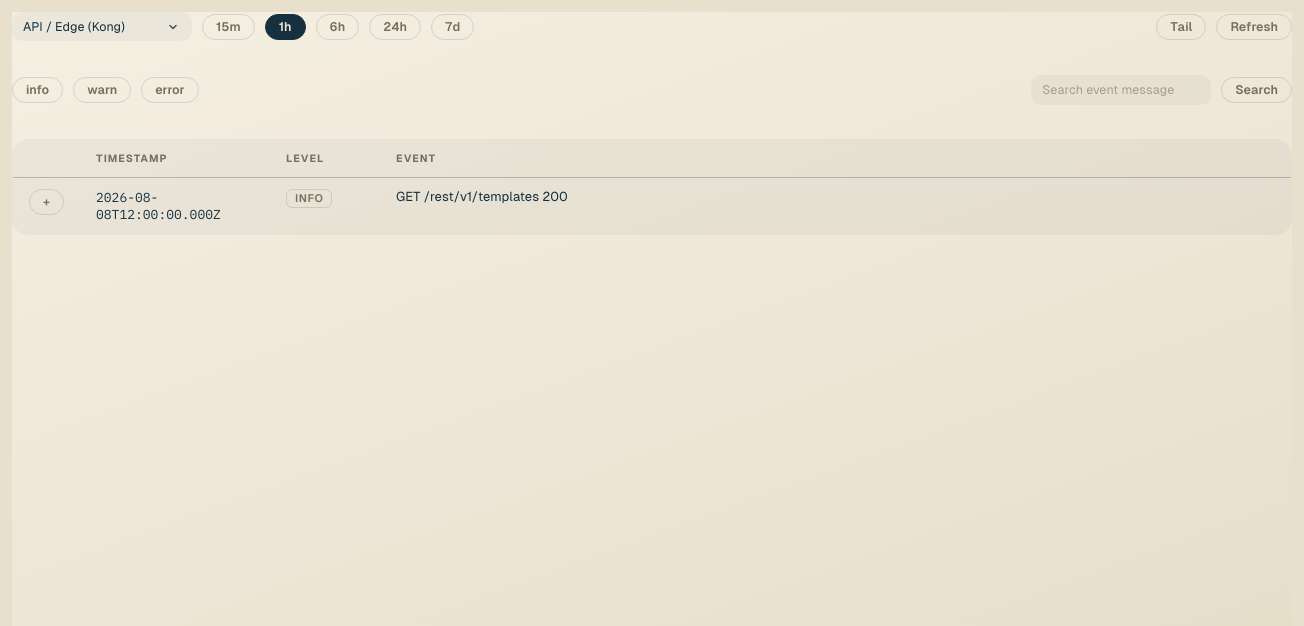
Scenario: LogsClient — query controls › a 400 answer surfaces its error as an alert, keeping the table
This screenshot has width=1304, height=626.
Step 1. Click the button "Refresh" → (1254,26), box [1216,14,1292,40]
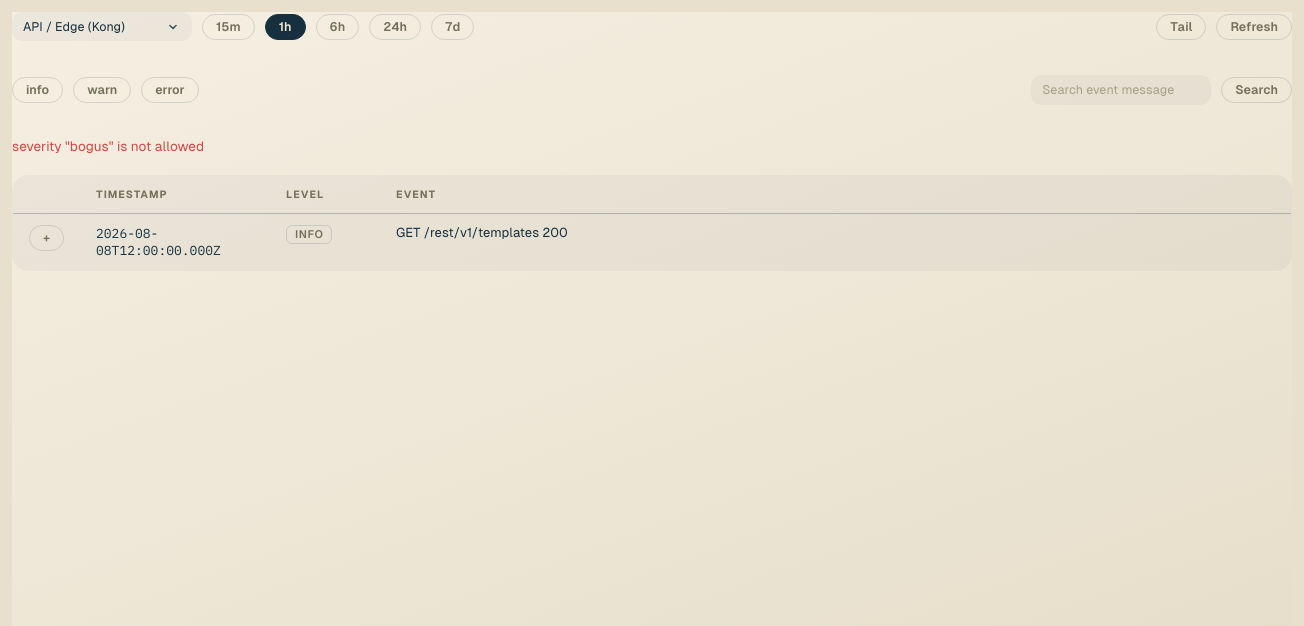
Expected: the text "GET /rest/v1/templates 200" is shown, [396,225,568,240]
Expected: the message reads "severity \"bogus\" is not allowed", [12,139,204,154]
